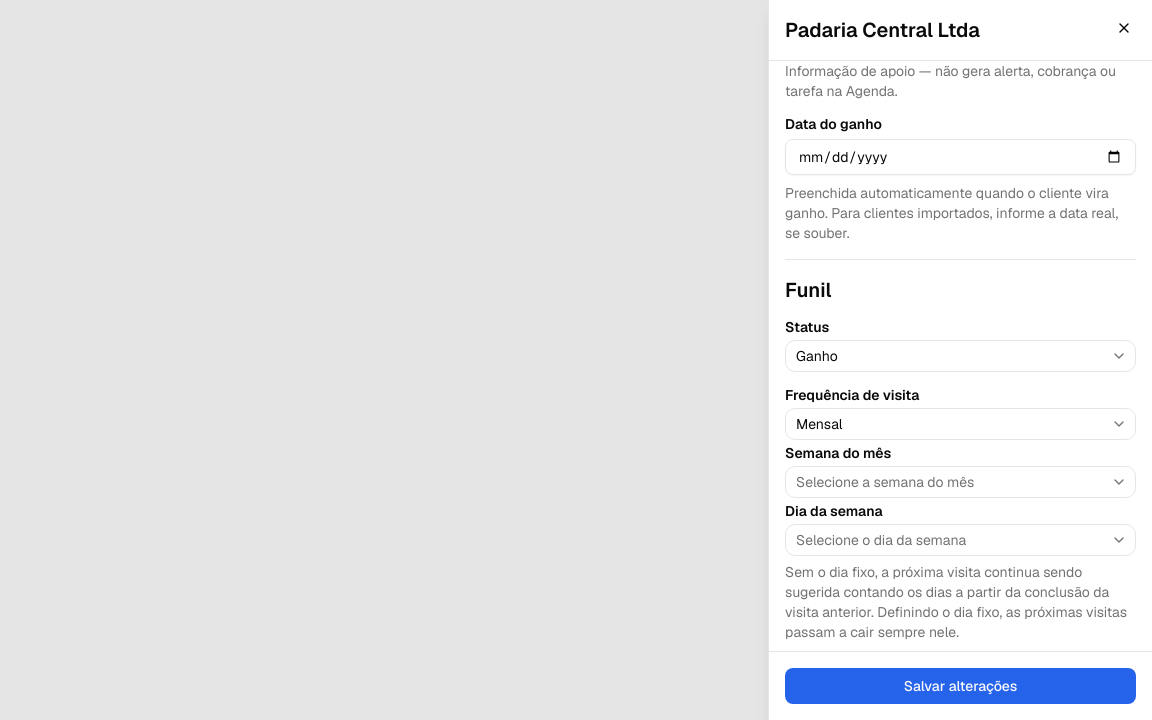
Scenario: ClienteDetailSheet — opção Encerrado (Fase 29, D-01/D-04/D-05/D-06) › opcao-presente-habilitada: com a ficha de um cliente ganho aberta, o combobox de Status mostra Em andamento/Perdido/Ganho/Encerrado, e Encerrado não está desabi
This screenshot has width=1152, height=720.
(page scrolled)
Click the dropdown named "Status".
click(817, 356)  # box [785,340,1136,372]
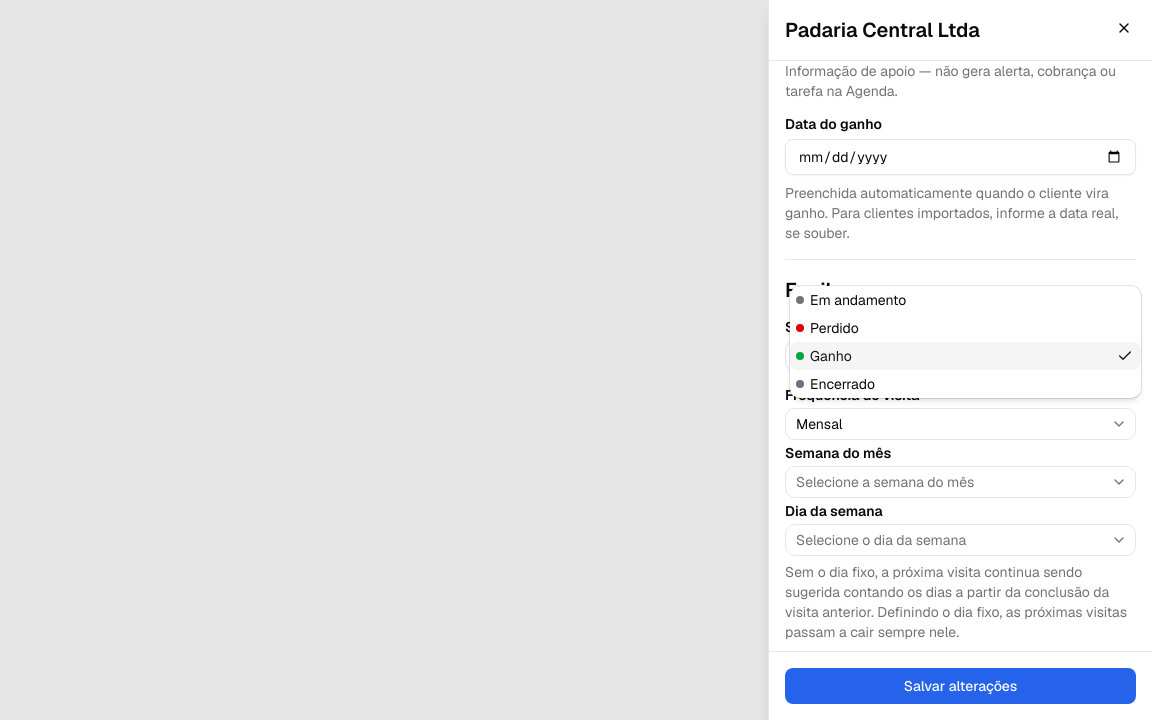
Check: the option "Em andamento" is shown, box [796,291,906,309]
Check: the option "Perdido" is shown, box [796,319,859,337]
Check: the option "Ganho" is shown, box [790,342,1141,370]
